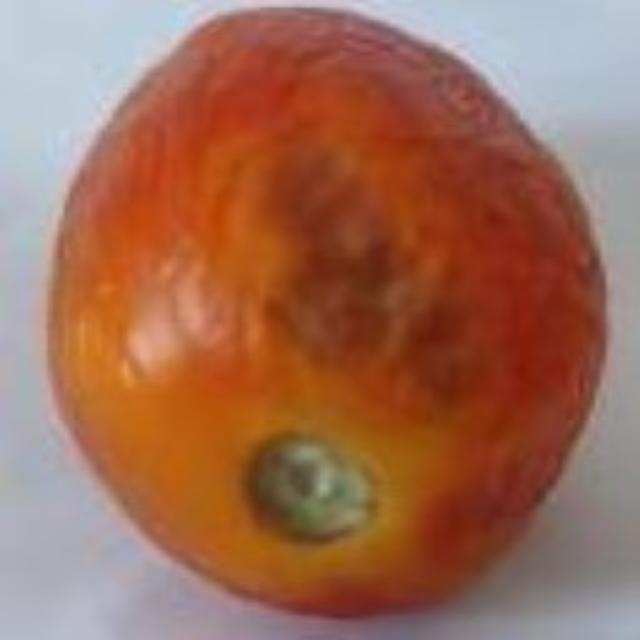defect: (47, 4, 618, 624)
